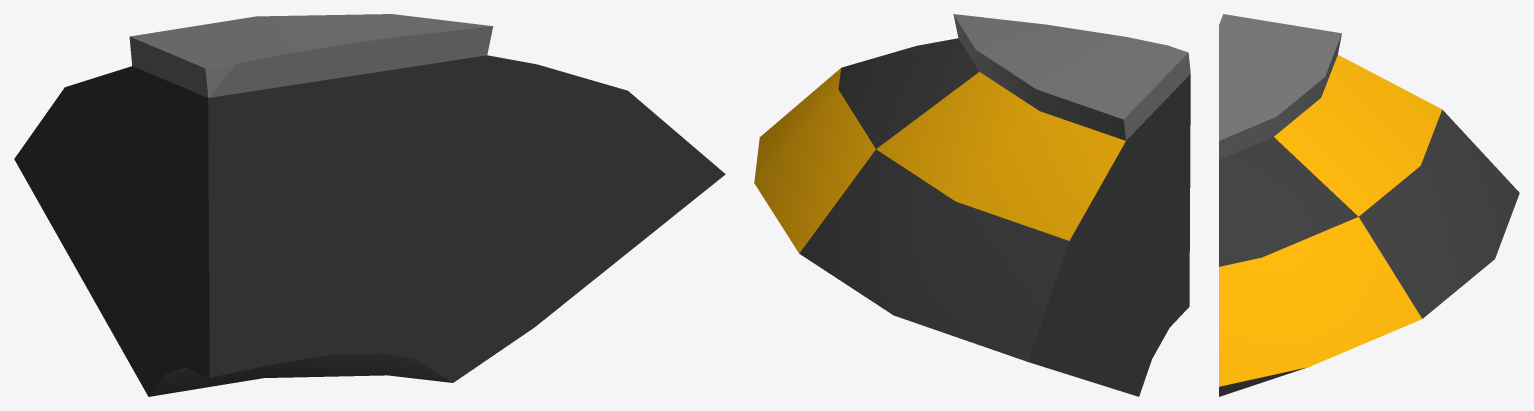
Rendered from kea1c.obj.
The picture shows the model from 3 angles, left to right: view 1: azimuth 30°, elevation 25°; view 2: azimuth 150°, elevation 25°; view 3: azimuth 270°, elevation 25°; orthographic projection. The views are drawn at different scales.
Visible parts, largest first — view 1: Cube2; view 2: Cube2; view 3: Cube2.
Boxes of the visible parts, x1,y1,x2,y2 form: Cube2: (14, 14, 725, 396); Cube2: (754, 14, 1190, 396); Cube2: (1219, 14, 1519, 396).
Bounding box in the file's own units: 1.93 × 1.33 × 1.26.
